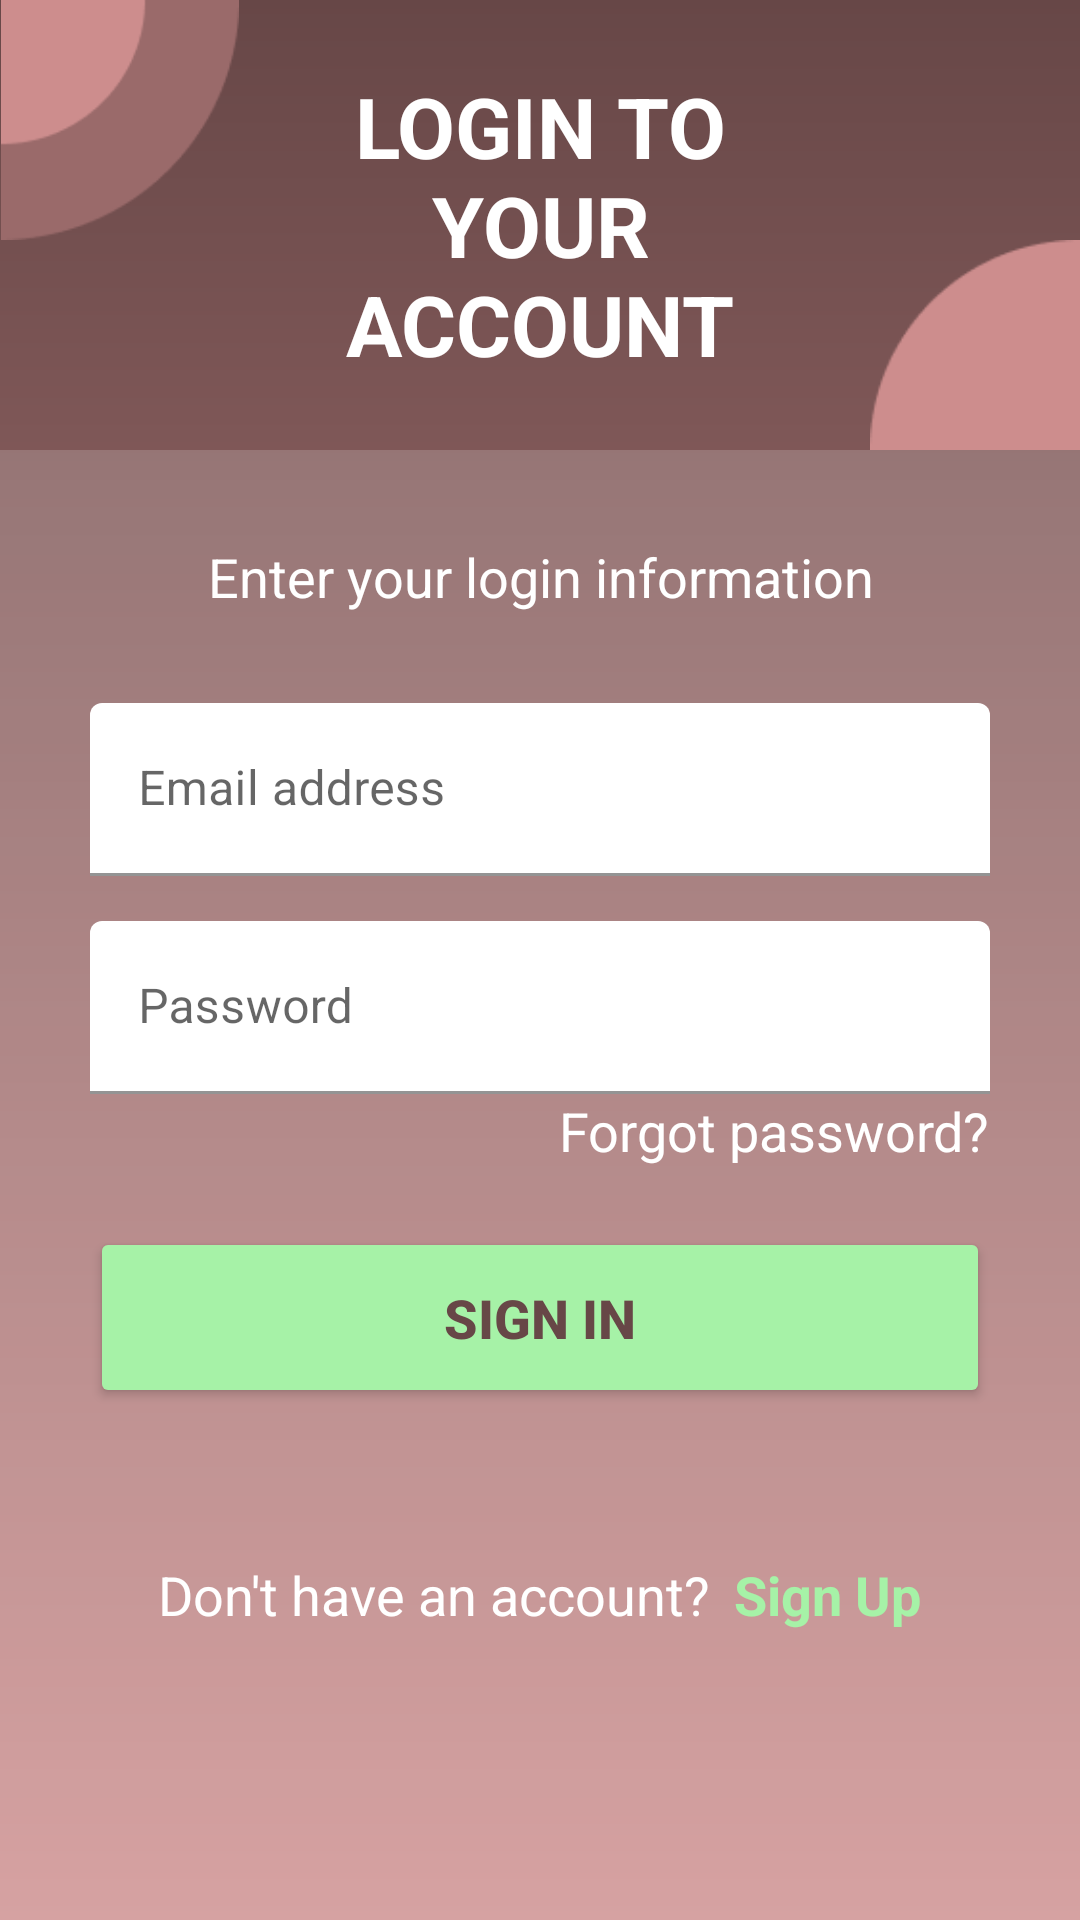

Screen size 1080×1920. Icon name, then its center in pixels as point (x, y):
circle quarter bottom right: point (975, 345)
circle quarter top left: point (120, 120)
